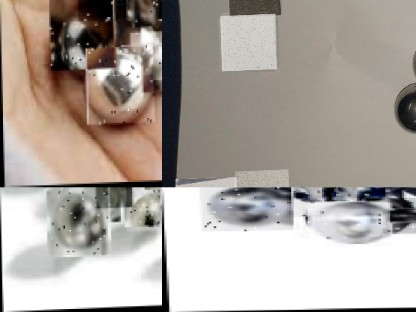ironball: (84, 46, 154, 125), (49, 0, 113, 71), (48, 187, 108, 256), (199, 187, 293, 231), (306, 202, 390, 244), (289, 187, 386, 217), (365, 198, 415, 235), (126, 187, 162, 232), (129, 32, 161, 82), (388, 83, 414, 134), (95, 187, 132, 209), (77, 0, 114, 21), (129, 0, 158, 25)
